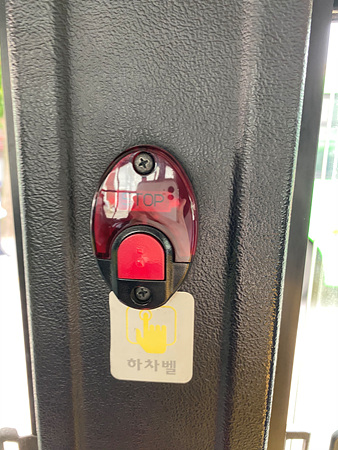bell: (90, 146, 200, 310)
